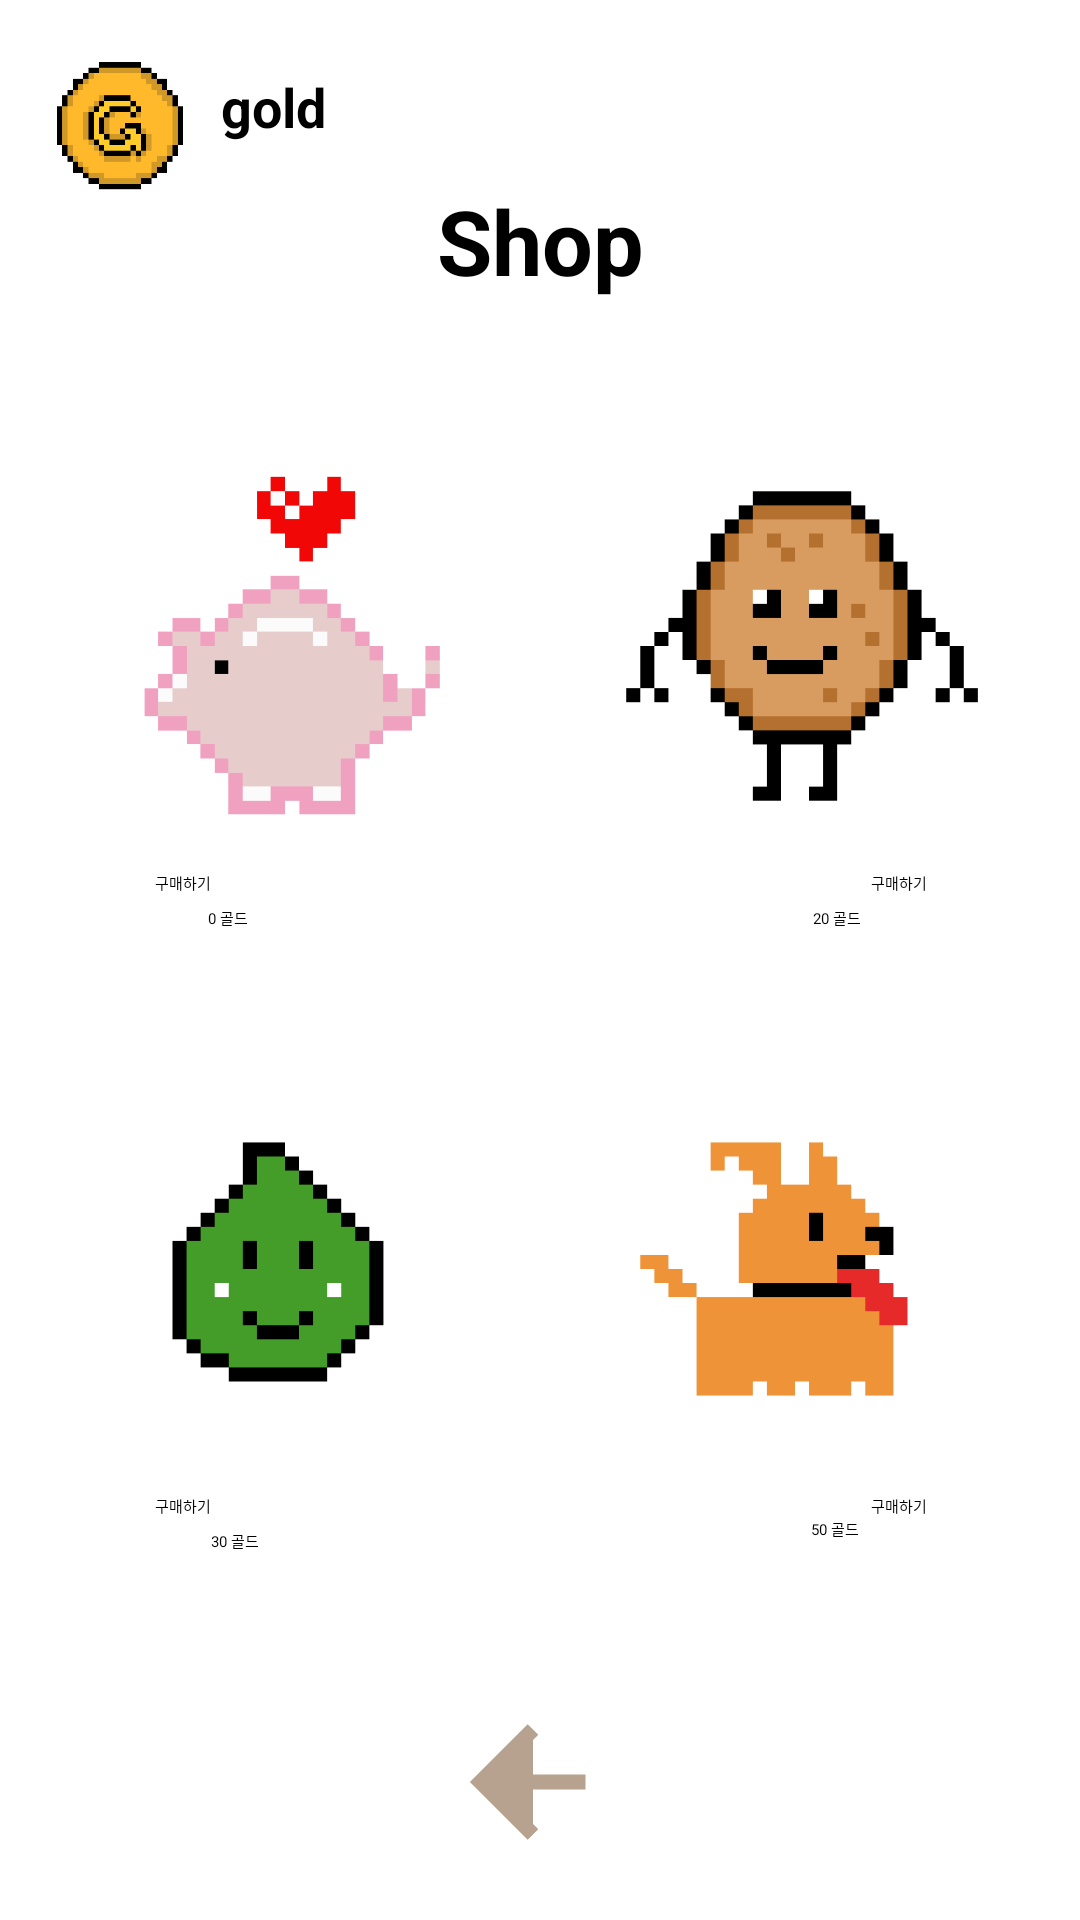

Icon click points for this 1080 × 1920 phone screenshot, format point (x, y):
dog: point (774, 1269)
potato: point (802, 646)
골드 버튼: point (120, 126)
뒤로가기 버튼: point (528, 1782)
